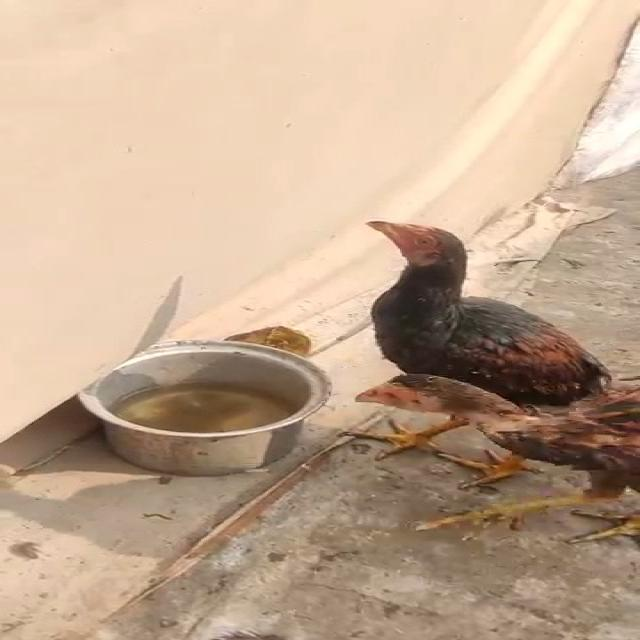drinking: (298, 218, 640, 482)
